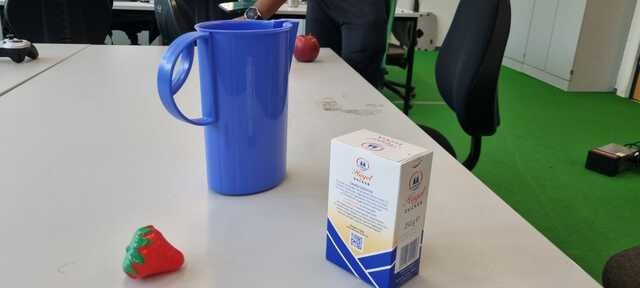004_sugar_box: (323, 126, 436, 288)
012_strawberry: (120, 223, 191, 281)
013_apple: (291, 34, 324, 65)
019_pitcher_base: (154, 19, 301, 199)
